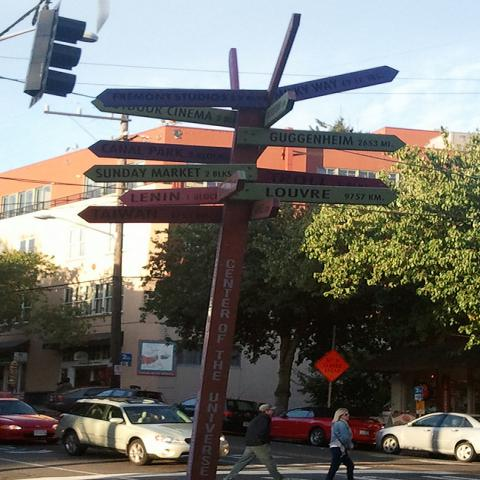car: (56, 398, 229, 465), (374, 411, 479, 463), (271, 408, 382, 446), (174, 396, 262, 437), (1, 398, 57, 444), (45, 386, 110, 412), (86, 388, 170, 405)
